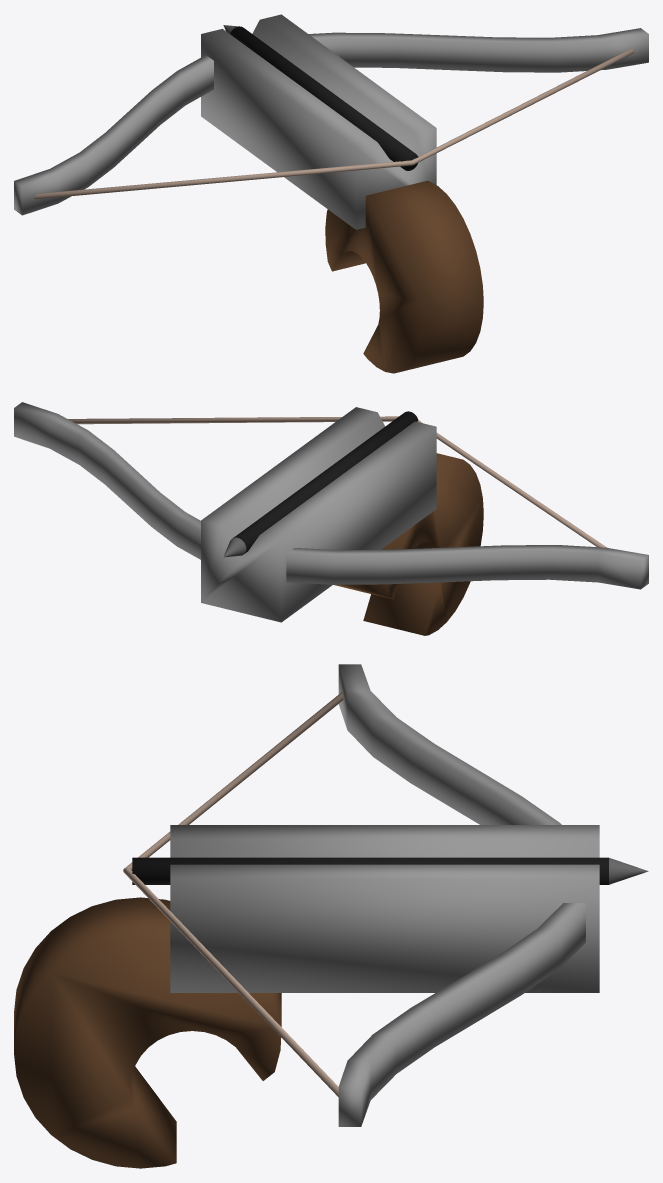
Rendered from crssbow.glb.
3 renders of one model, top to bottom at view 1: azimuth 30°, elevation 25°; view 2: azimuth 150°, elevation 25°; view 3: azimuth 270°, elevation 25°, orthographic. The views are drawn at different scales.
Parts seen in each view (by area): view 1: Cylinder.002; view 2: Cylinder.002; view 3: Cylinder.002.
Boxes of the visible parts, x1,y1,x2,y2 form: Cylinder.002: (14, 14, 648, 373); Cylinder.002: (14, 402, 648, 635); Cylinder.002: (14, 664, 648, 1168).
Bounding box in the file's own units: 1.03 × 0.3365 × 0.655.
